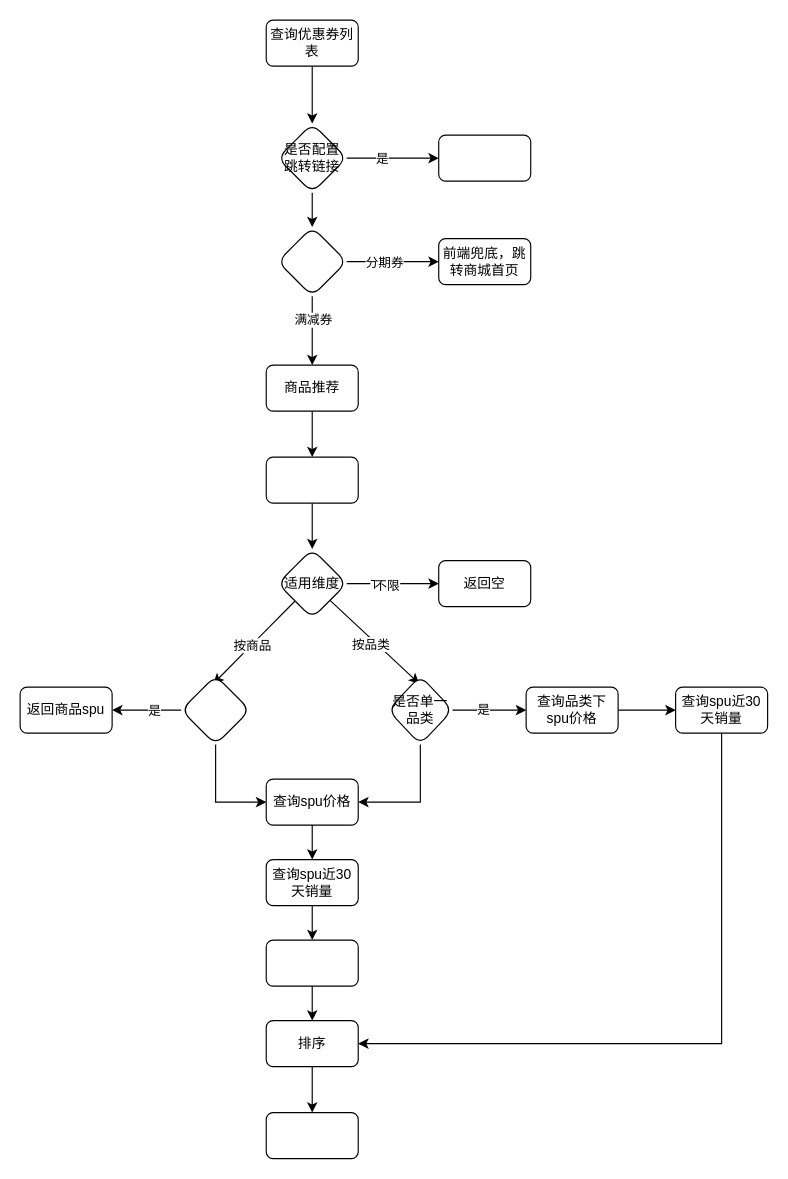
Image size: 788x1179. Some labels were removed from this diagram. Here are the shapes that lost their labels. From the top down, the box of each, then its label:
(438, 134, 531, 181): 跳转链接
(277, 226, 347, 296): 判断券类型
(265, 456, 358, 503): 查询券模板
(180, 674, 250, 745): 是否单一商品
(265, 939, 358, 986): 查询默品类排序
(265, 1111, 358, 1159): 返回sku集合
